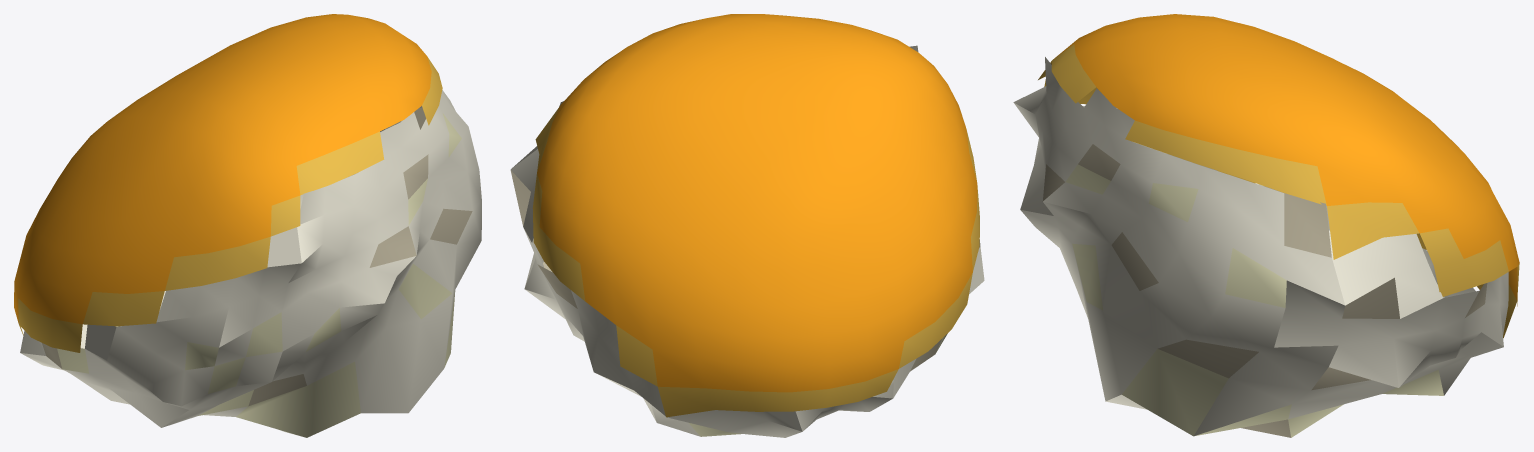
File: MigaPán Cogida.fbx
3 views of the same model, side by side, from view 1: azimuth 30°, elevation 25°; view 2: azimuth 150°, elevation 25°; view 3: azimuth 270°, elevation 25° (orthographic). The views are drawn at different scales.
Parts seen in each view (by area): view 1: Algo así como un pan; view 2: Algo así como un pan; view 3: Algo así como un pan.
Part boxes in pixels (left/top/right/bottom): Algo así como un pan: left=14, top=14, right=481, bottom=437; Algo así como un pan: left=510, top=14, right=984, bottom=437; Algo así como un pan: left=1013, top=14, right=1519, bottom=437.
Bounding box in the file's own units: 0.5376 × 0.4273 × 0.5204.
